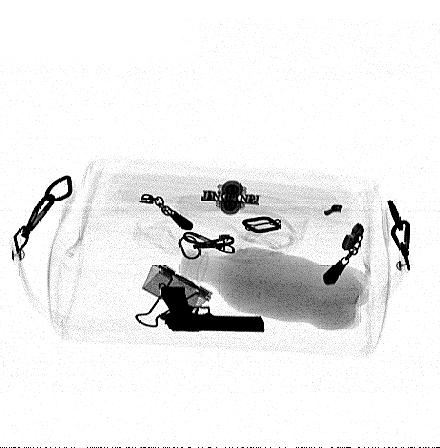Gun: (157, 286, 265, 333)
